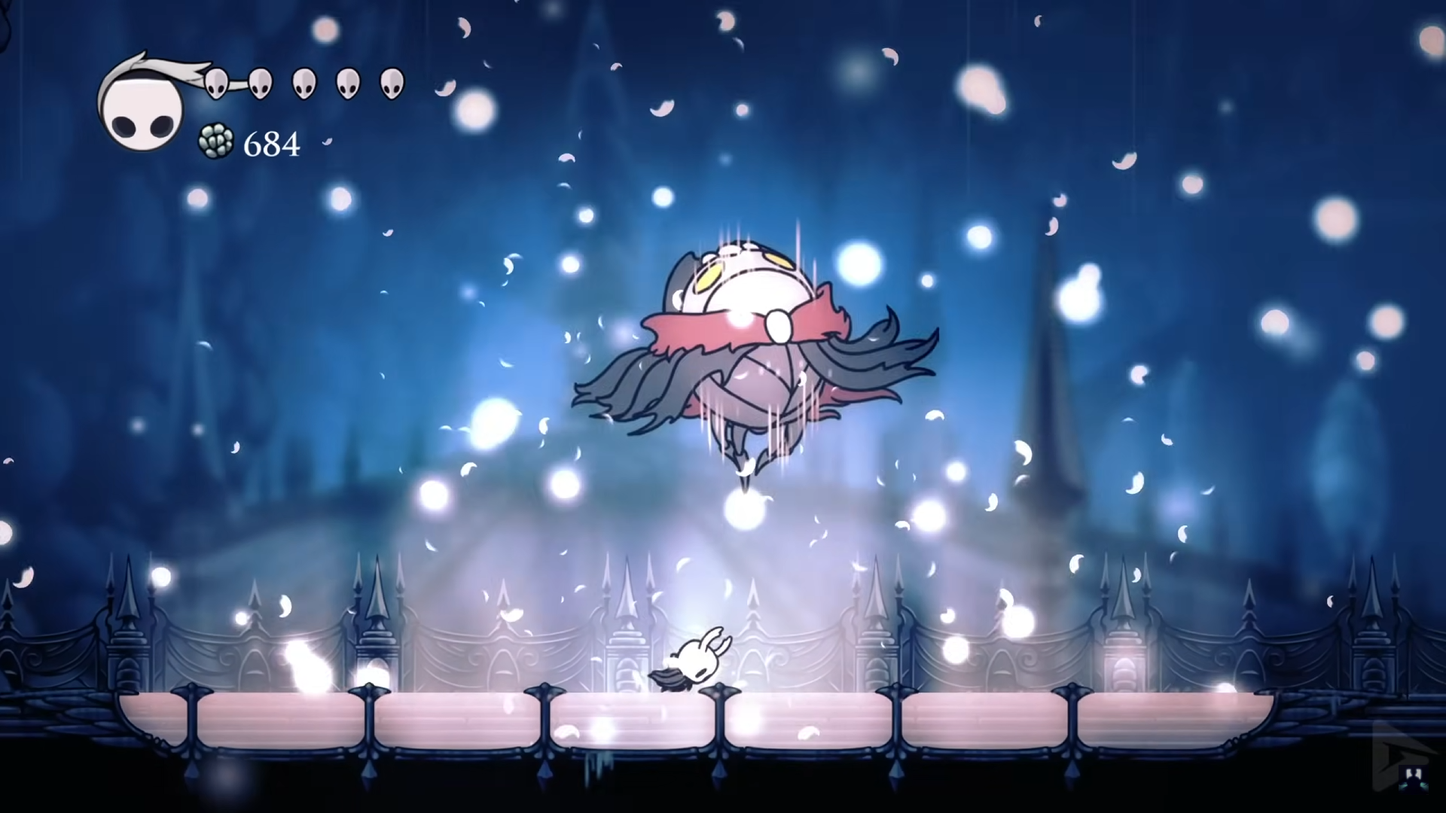HK: (645, 626, 736, 695)
